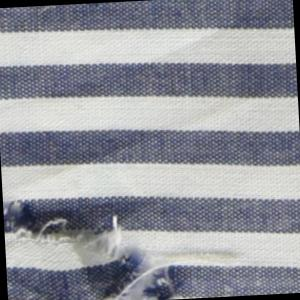Damage: (3, 187, 213, 300)
Wrinkle: (24, 1, 300, 177)
